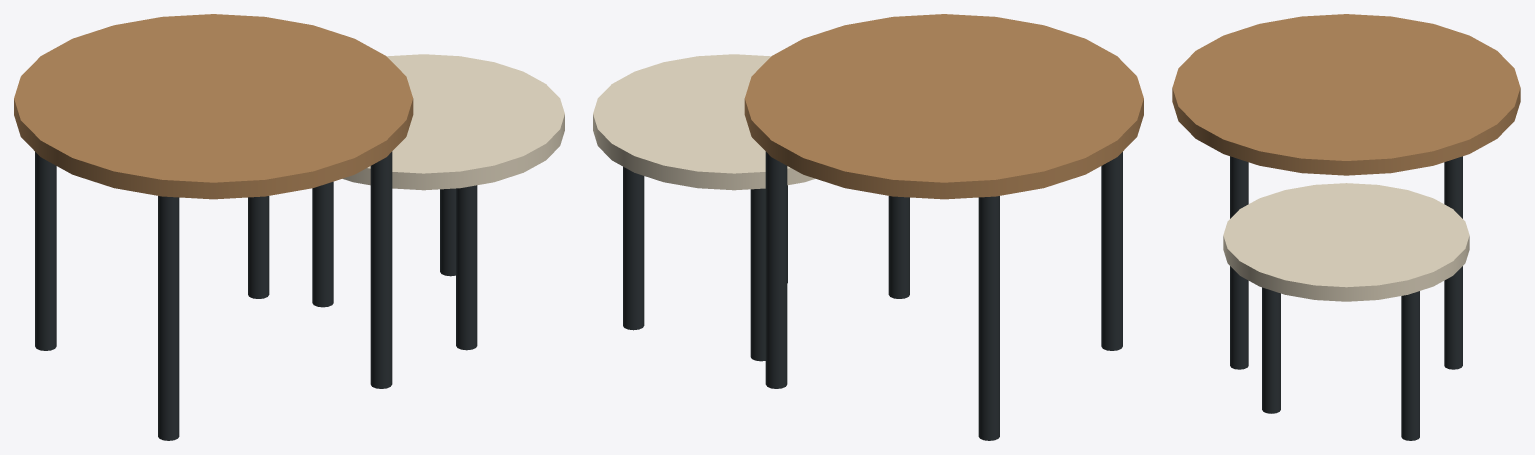
The picture shows the model from 3 angles, left to right: view 1: azimuth 30°, elevation 25°; view 2: azimuth 150°, elevation 25°; view 3: azimuth 270°, elevation 25°; orthographic projection. The views are drawn at different scales.
Visible parts, largest first — view 1: large-top, large-leg-1, small-top; view 2: large-top, large-leg-1, small-top; view 3: large-top, small-top, large-leg-1.
Boxes of the visible parts, <box> form: large-top: <box>14,14,413,199</box>; large-leg-1: <box>35,151,477,440</box>; small-top: <box>342,54,564,190</box>; large-top: <box>744,14,1143,199</box>; large-leg-1: <box>623,151,1122,440</box>; small-top: <box>593,54,815,190</box>; large-top: <box>1172,14,1520,175</box>; small-top: <box>1223,183,1469,301</box>; large-leg-1: <box>1230,156,1462,440</box>.
Bounding box in the file's own units: 0.95 × 0.48 × 0.65.
